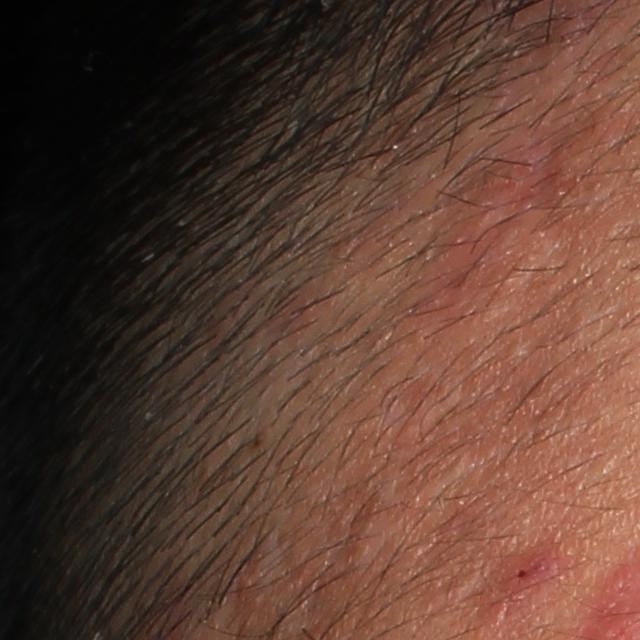comedo: (504, 340, 528, 368)
papule: (491, 537, 562, 598)
